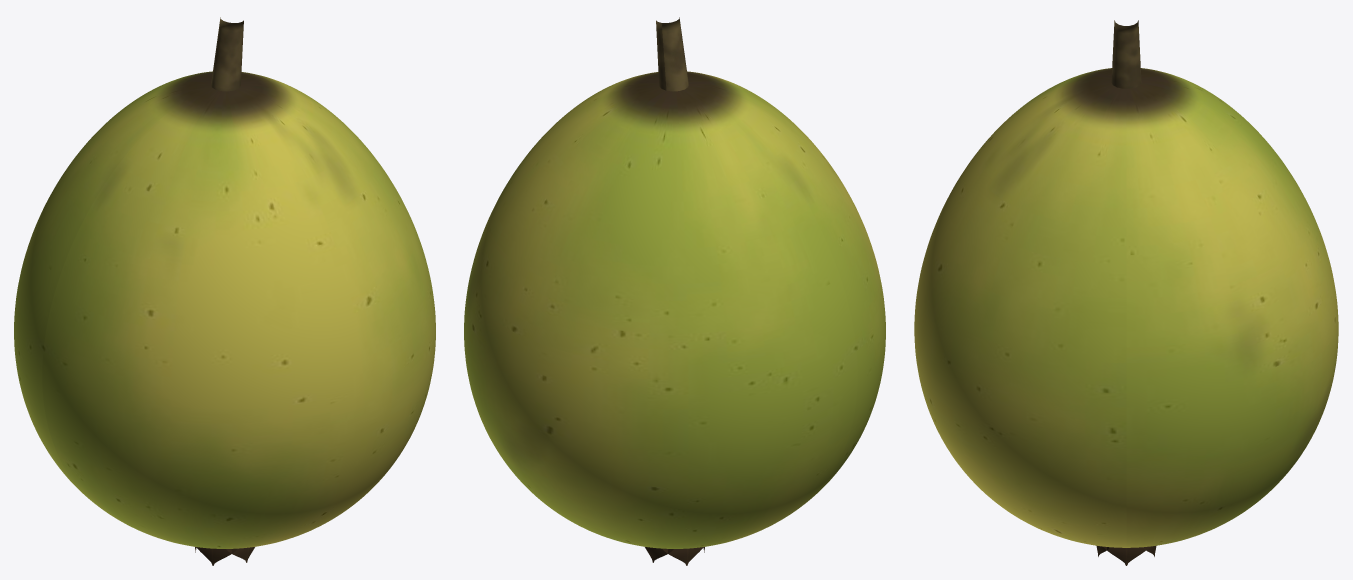
Rendered from goyave.glb.
3 renders of one model, left to right at view 1: azimuth 30°, elevation 25°; view 2: azimuth 150°, elevation 25°; view 3: azimuth 270°, elevation 25°, orthographic.
Visible parts, largest first — view 1: entier_peau, moitie_A_peau, moitie_B_peau, entier_extra5; view 2: entier_peau, moitie_B_peau, moitie_A_peau, entier_extra5; view 3: entier_peau, moitie_A_peau, moitie_B_peau, entier_extra5.
Part boxes in pixels (<box>): entier_peau: <box>14,72,435,548</box>; moitie_A_peau: <box>42,80,435,548</box>; moitie_B_peau: <box>14,71,307,501</box>; entier_extra5: <box>211,17,243,91</box>; entier_peau: <box>464,72,885,548</box>; moitie_B_peau: <box>464,80,857,548</box>; moitie_A_peau: <box>591,71,885,499</box>; entier_extra5: <box>656,17,688,91</box>; entier_peau: <box>914,68,1338,547</box>; moitie_A_peau: <box>937,68,1126,547</box>; moitie_B_peau: <box>1126,68,1315,547</box>; entier_extra5: <box>1111,20,1141,88</box>.
Size of the model in its own units: 0.0601 by 0.0841 by 0.0601.
Materials: 4 (4 with a texture image).
